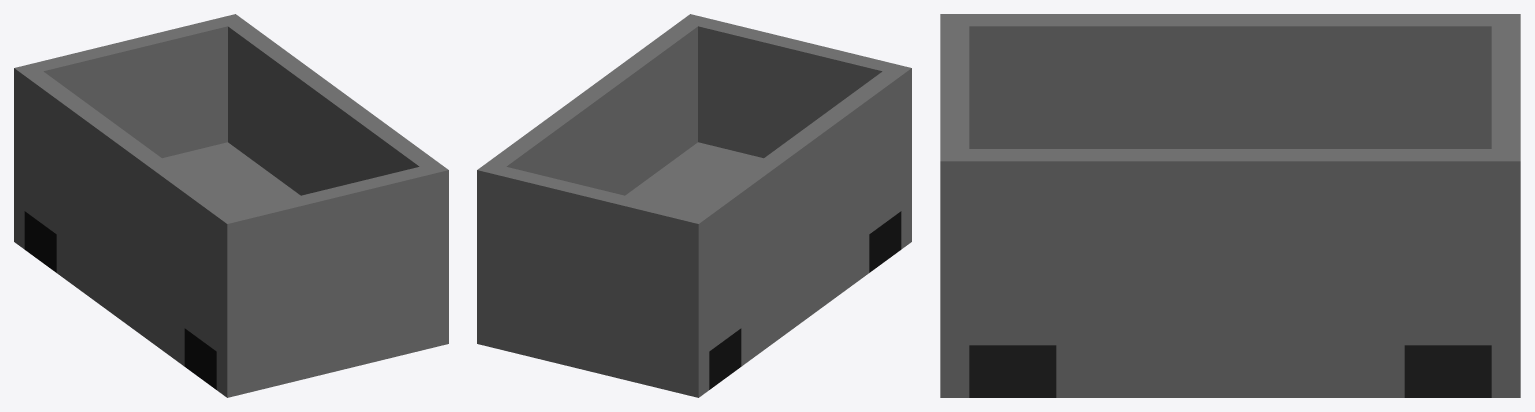
File: carrinho.obj
The picture shows the model from 3 angles, left to right: view 1: azimuth 30°, elevation 25°; view 2: azimuth 150°, elevation 25°; view 3: azimuth 270°, elevation 25°; orthographic projection. The views are drawn at different scales.
Bounding box in the file's own units: 1.2 × 0.9 × 2.
Materials: 1 (1 with a texture image).
